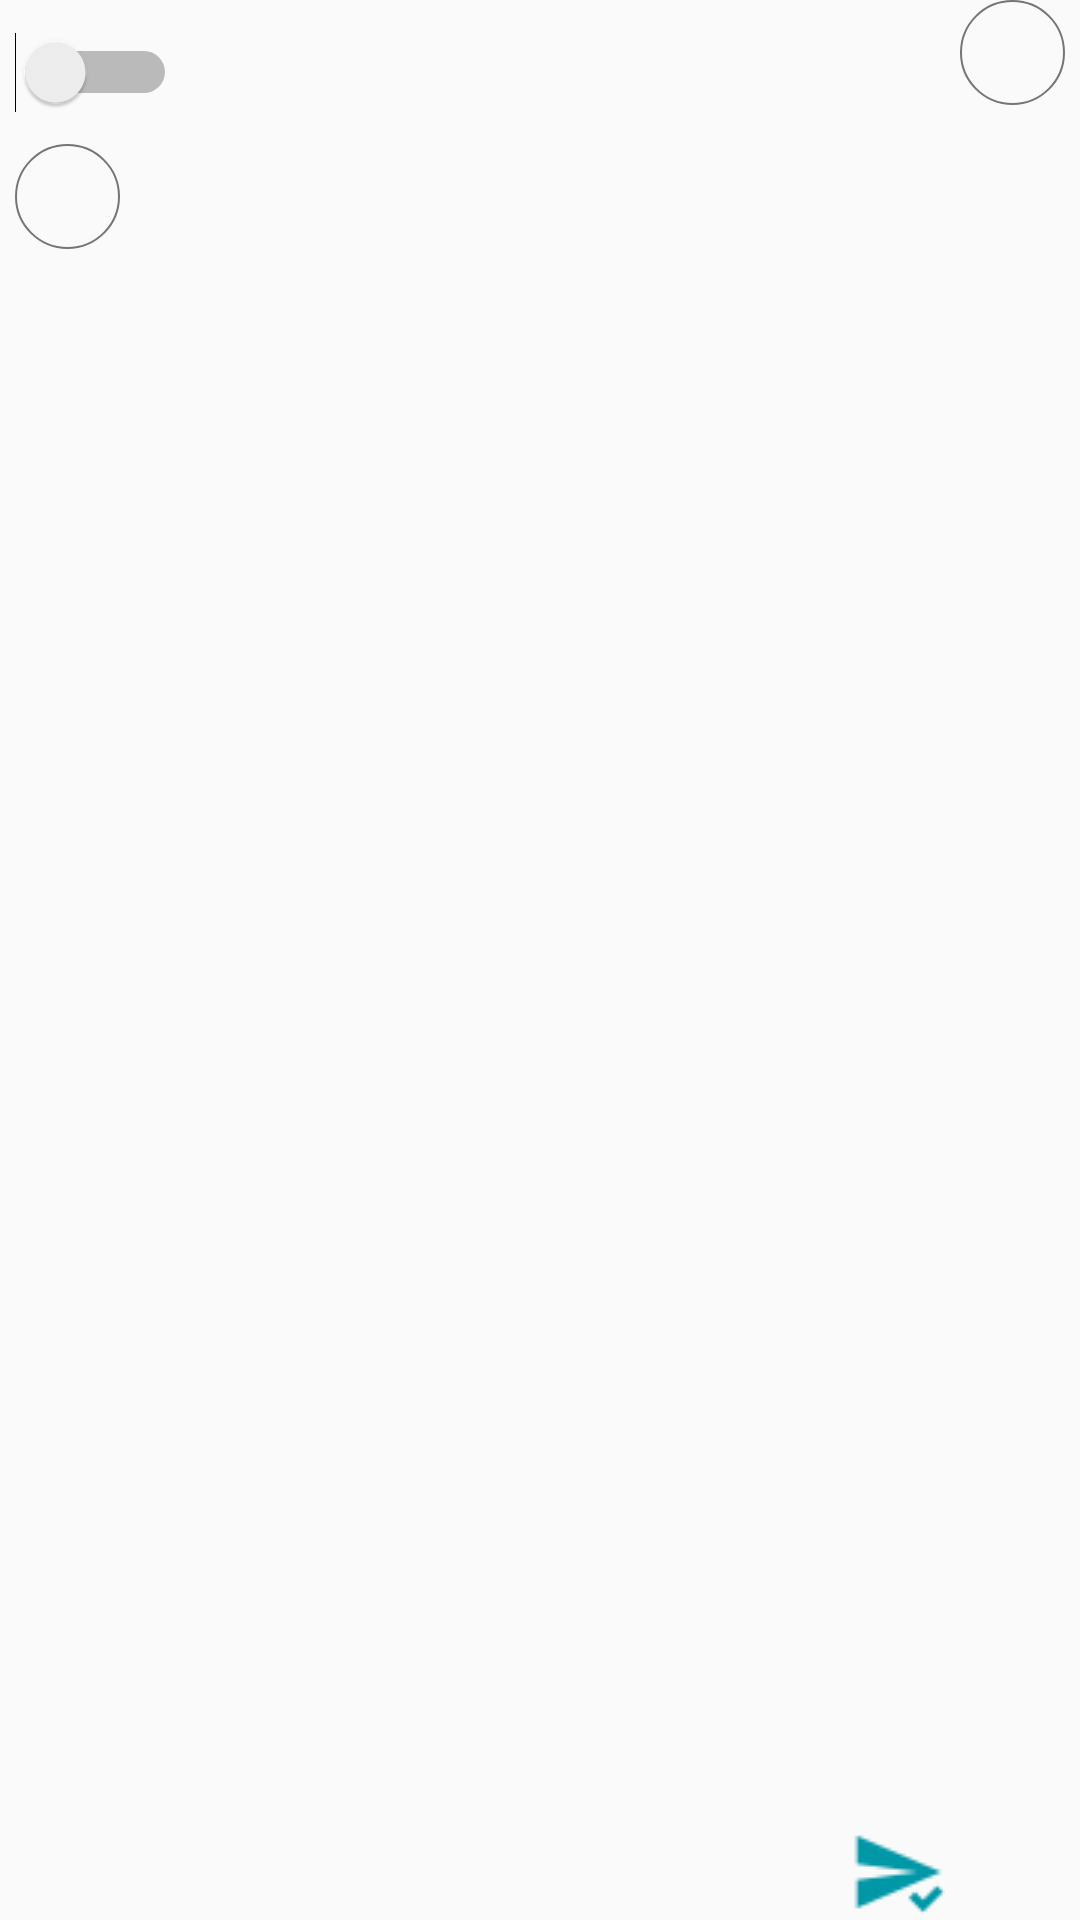

Screen size 1080×1920. Icon name, then its center in pixels as point (x, y):
Message Status: point (899, 1874)
